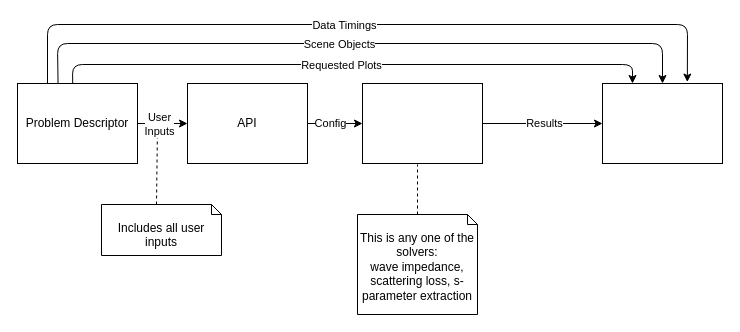
This 740x332 diagram has some shape labels left out. The shapes that lost their labels are listed below. From the top down, each one's centre as x and y in pixels, then its label:
the point at 422,123: FDTD
the point at 662,123: Visualizer
